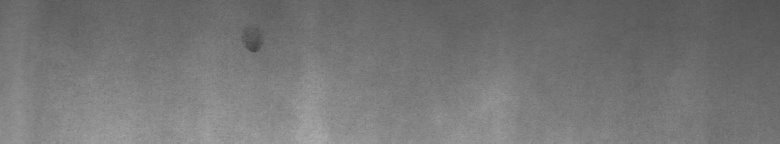fi: (239, 29, 264, 60)
